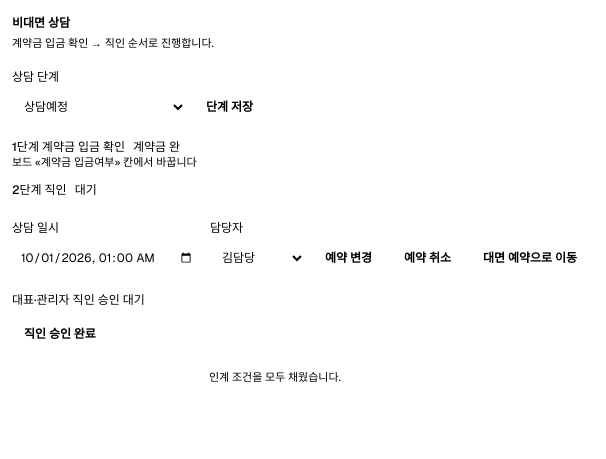
it: ConsultationPanel › mode 응답 유실 시 입력을 잠그고 동일 요청 전체로만 다시 확인한다
The width and height of the screenshot is (606, 459).
Submit the form, box left=12, top=220, right=589, bottom=276
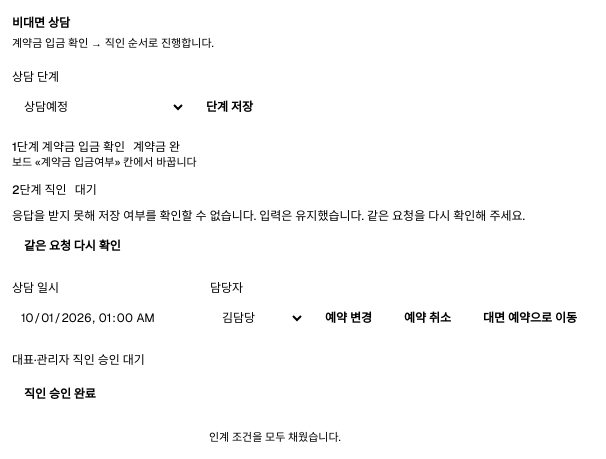
Now the text "저장 여부를 확인할 수 없습니다" is shown, box left=12, top=208, right=525, bottom=224
Now the field named "meetingAt" is disabled, box left=12, top=300, right=202, bottom=336
Now the dropdown named "assigneeId" is disabled, box left=210, top=300, right=305, bottom=336
Submit the form, box left=12, top=280, right=589, bottom=336
Click the button "같은 요청 다시 확인" at (72,246), box left=12, top=228, right=133, bottom=264
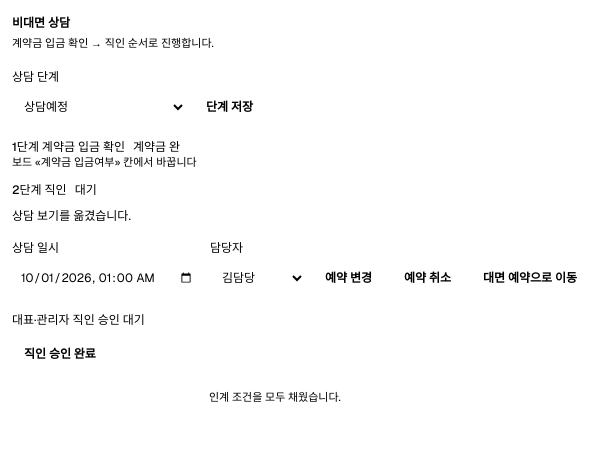
Now the text "저장 여부를 확인할 수 없습니다" is gone
Now the field named "meetingAt" is enabled, box left=12, top=260, right=202, bottom=296
